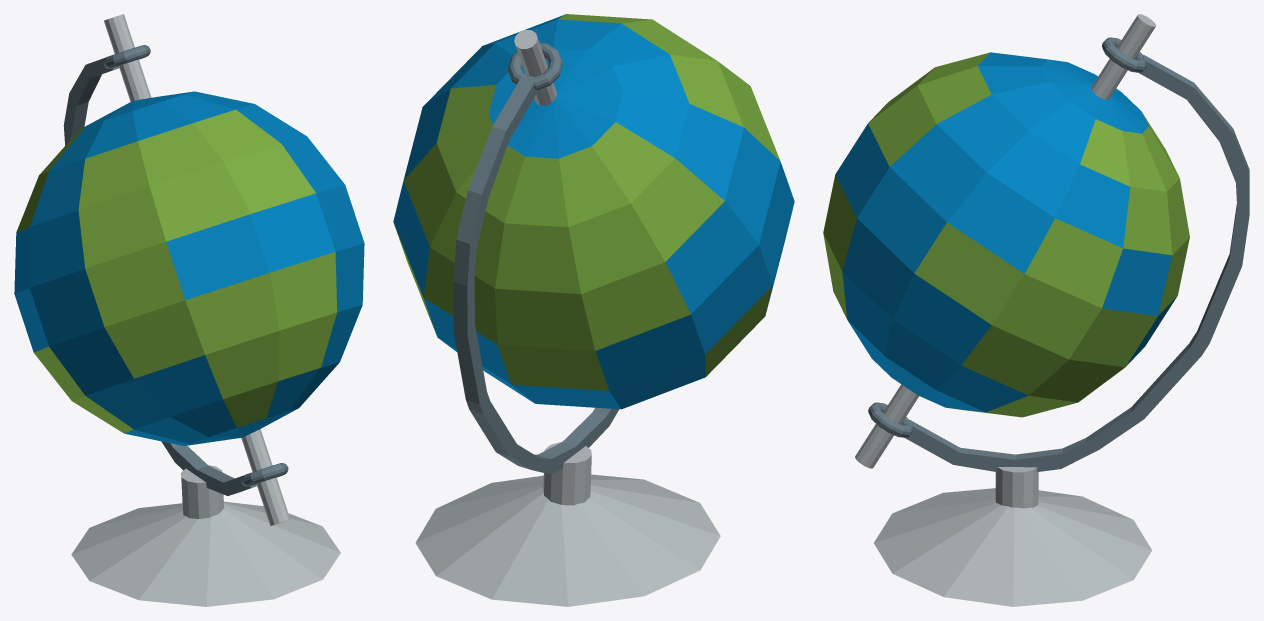
The picture shows the model from 3 angles, left to right: view 1: azimuth 30°, elevation 25°; view 2: azimuth 150°, elevation 25°; view 3: azimuth 270°, elevation 25°; orthographic projection. The views are drawn at different scales.
Visible parts, largest first — view 1: node_MeshObject-931493888-PolyPaper21; view 2: node_MeshObject-931493888-PolyPaper21; view 3: node_MeshObject-931493888-PolyPaper21.
Boxes of the visible parts, left/top/right/bottom form: node_MeshObject-931493888-PolyPaper21: left=14, top=14, right=364, bottom=606; node_MeshObject-931493888-PolyPaper21: left=393, top=14, right=794, bottom=606; node_MeshObject-931493888-PolyPaper21: left=823, top=14, right=1249, bottom=606.
Size of the model in its own units: 0.4968 by 0.7842 by 0.5813.
